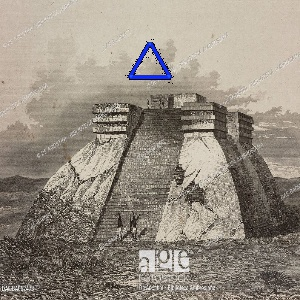triangle: (126, 40, 174, 82)
